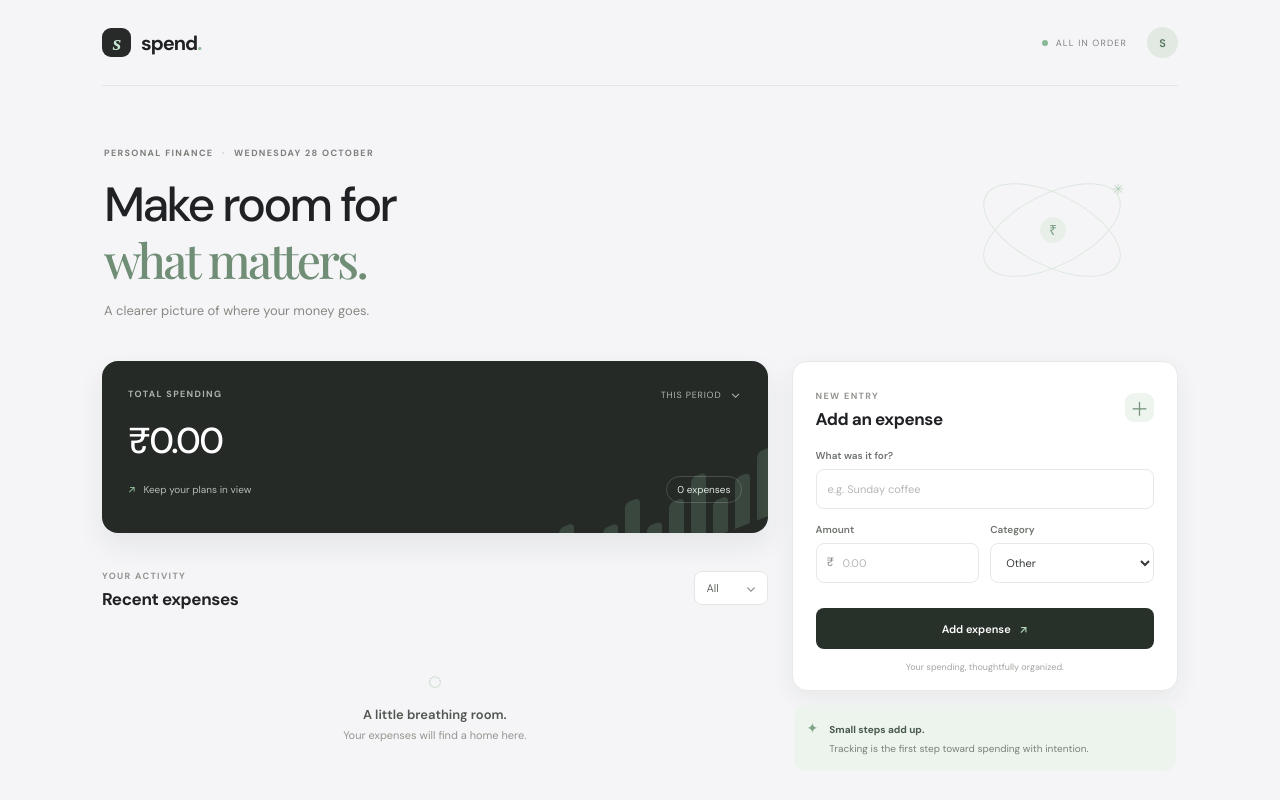
Scenario: Expense tracker › does not display an invalid negative amount
The width and height of the screenshot is (1280, 800).
Type "Invalid" into the field labelled "What was it for?" at (985, 490), box [816,470,1154,510]
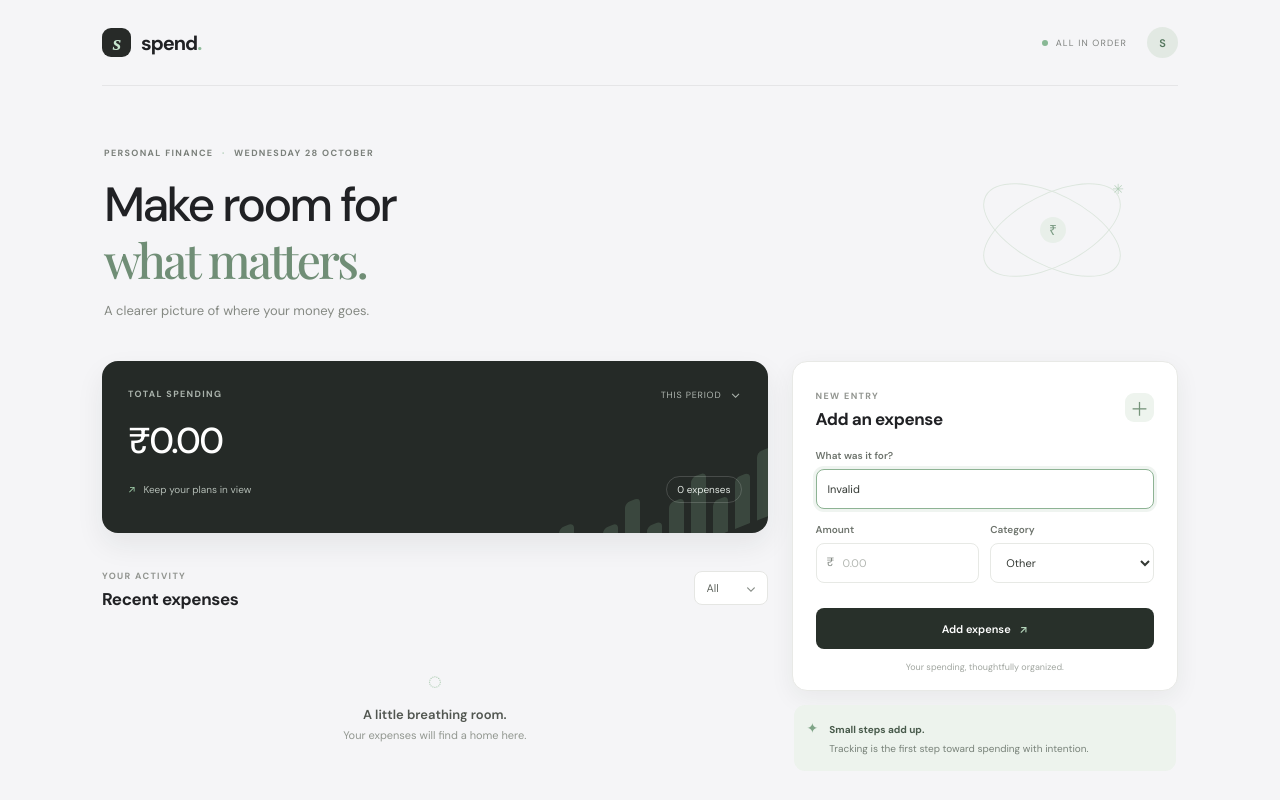
Type "-8" into the number field labelled "Amount ₹" at (897, 564), box [816,544,979,584]
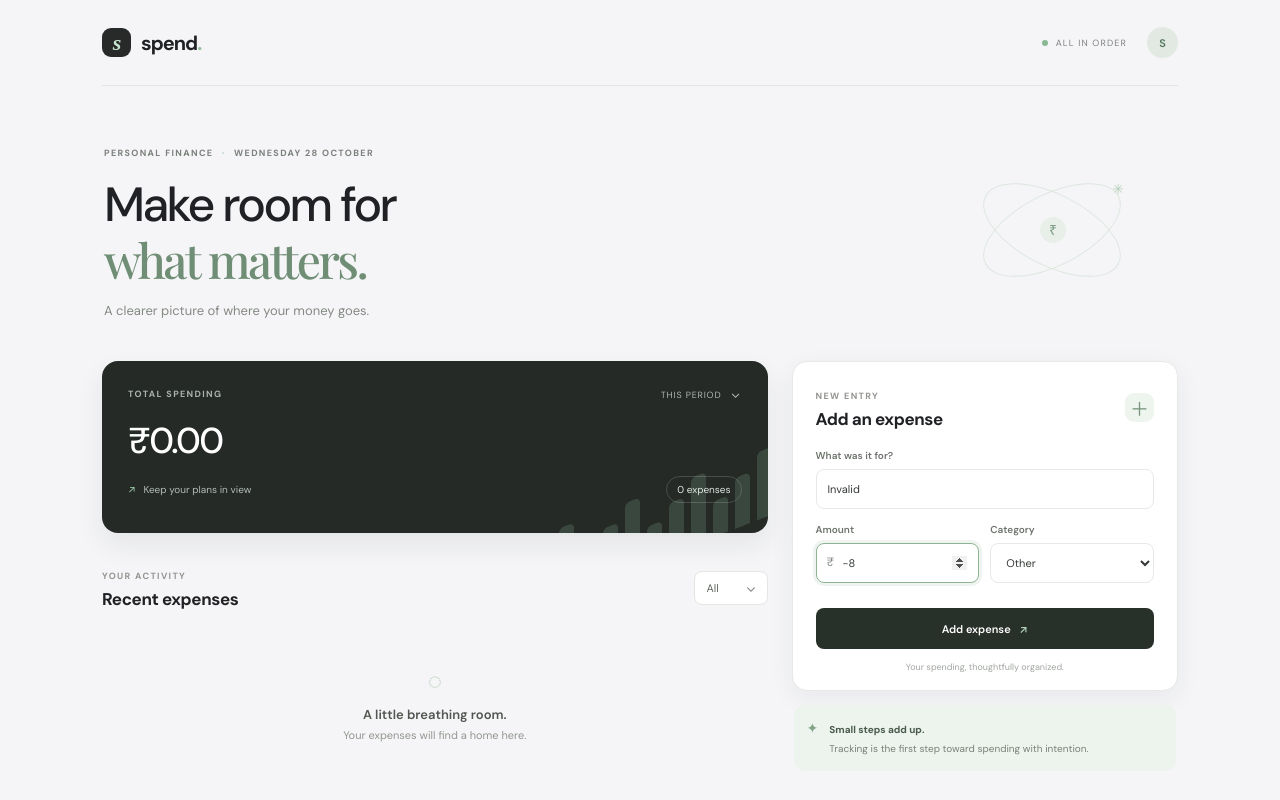
Click the button "Add expense ↗" at (985, 629), box [816,608,1154,650]
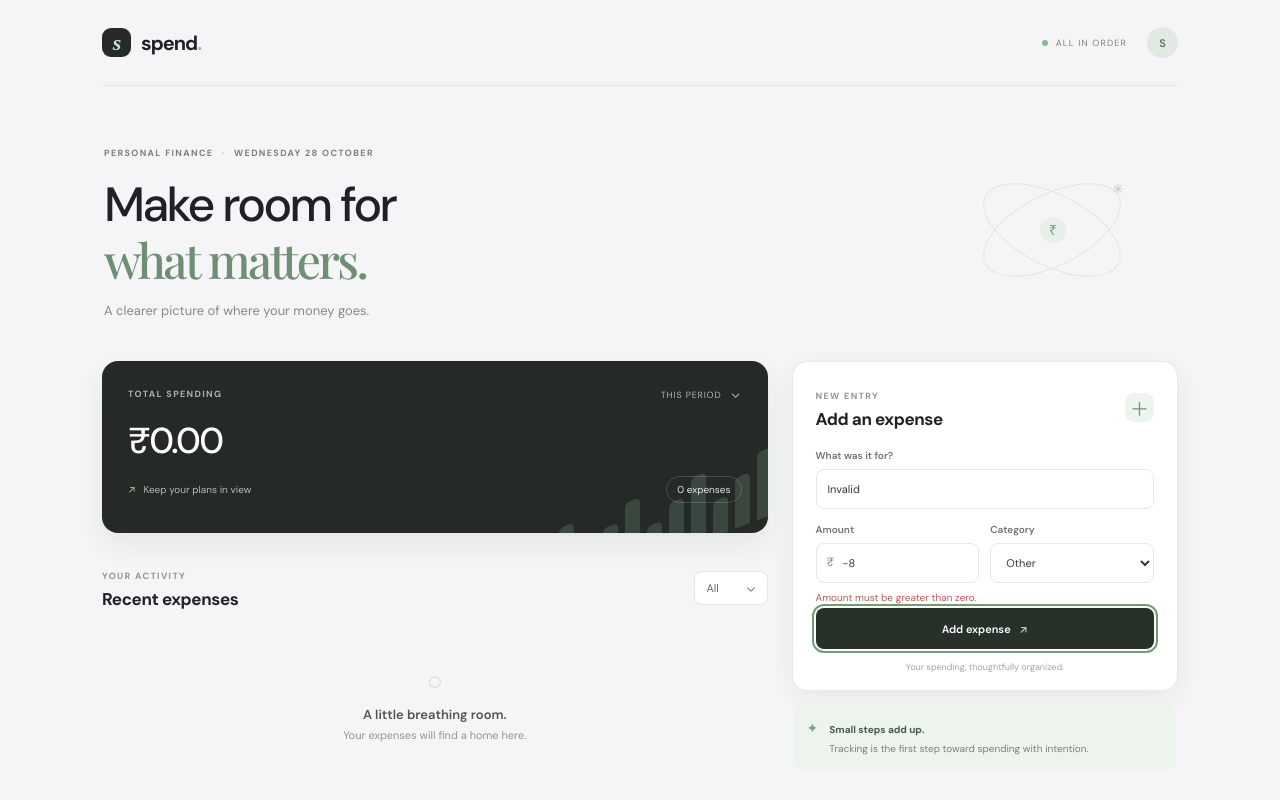
Check: the message shows "greater than zero", box [816,592,977,604]
